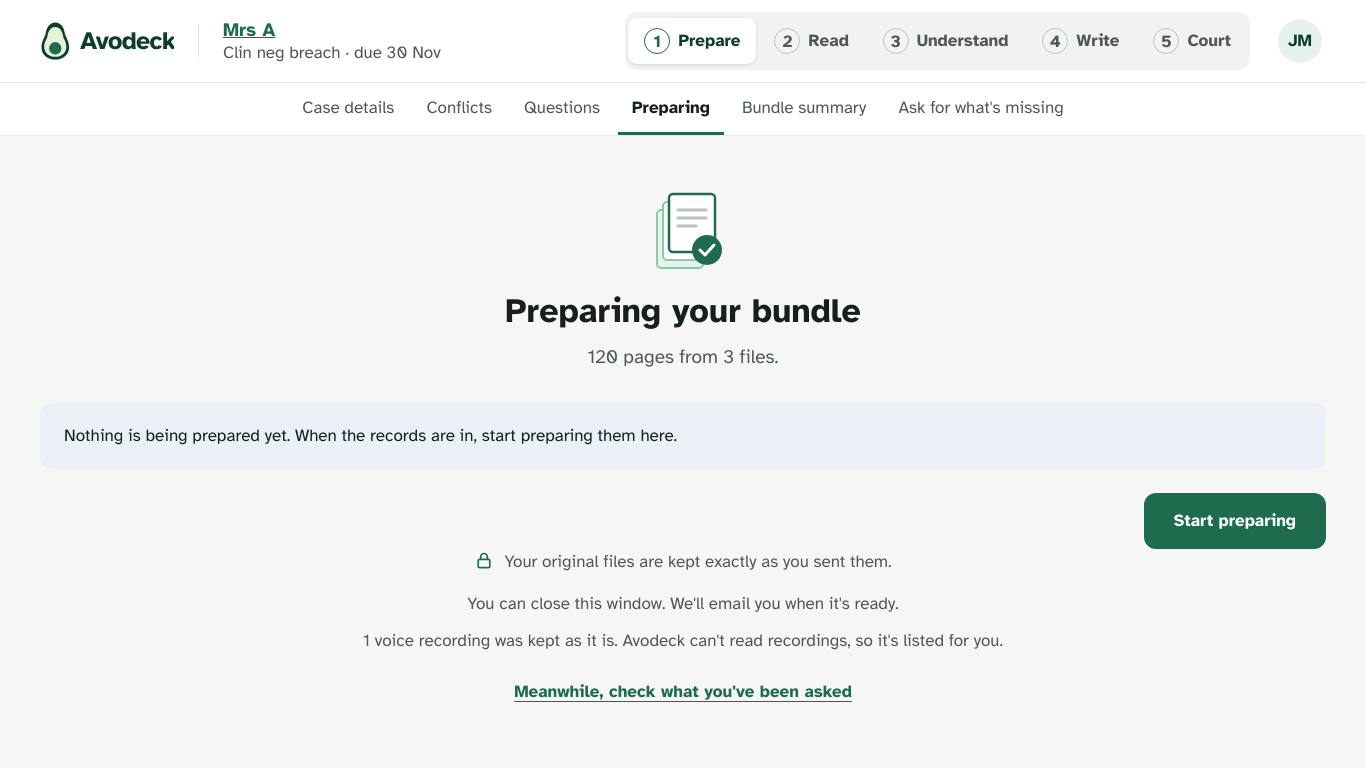
Test: Preparing, the reasons the API gives › when processing is paused, Start preparing says your work is safe and to try again later
Click the button "Start preparing" at (1235, 520), box [1144, 492, 1326, 548]
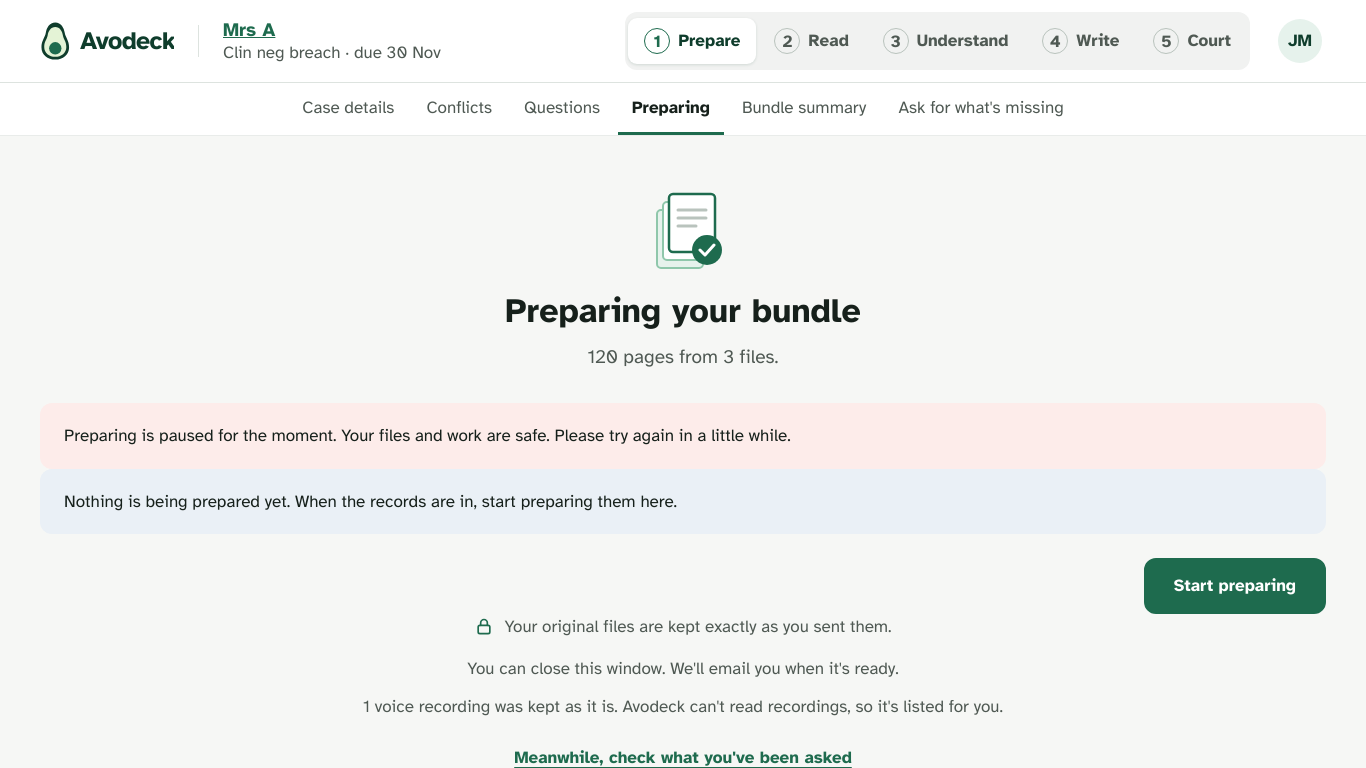
expect the text "Preparing is paused for the moment. Your files and work are safe. Please try again in a little while." is shown: met, box [64, 425, 791, 446]
